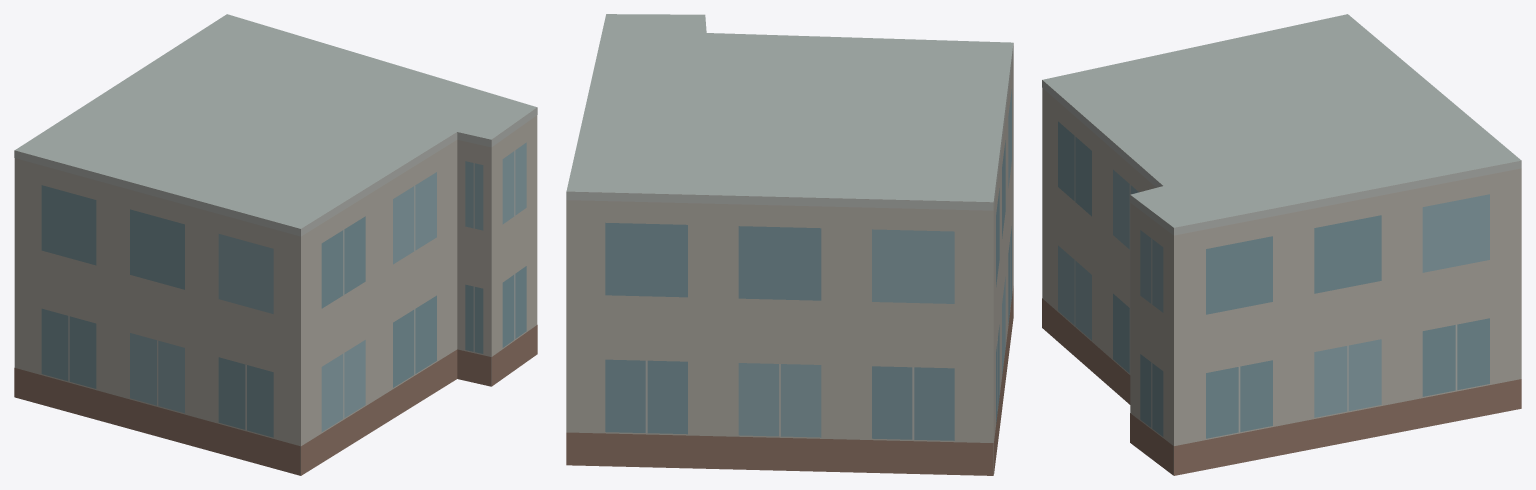
File: survey-upis-33039725.glb
The picture shows the model from 3 angles, left to right: view 1: azimuth 30°, elevation 25°; view 2: azimuth 150°, elevation 25°; view 3: azimuth 270°, elevation 25°; orthographic projection. The views are drawn at different scales.
Parts seen in each view (by area): view 1: survey-upis-33039725.tmp; view 2: survey-upis-33039725.tmp; view 3: survey-upis-33039725.tmp.
Part boxes in pixels (x1=…): survey-upis-33039725.tmp: x1=14, y1=14, x2=537, y2=475; survey-upis-33039725.tmp: x1=566, y1=14, x2=1013, y2=475; survey-upis-33039725.tmp: x1=1042, y1=14, x2=1521, y2=475.
Bounding box in the file's own units: 14.43 × 7.8 × 13.68.
